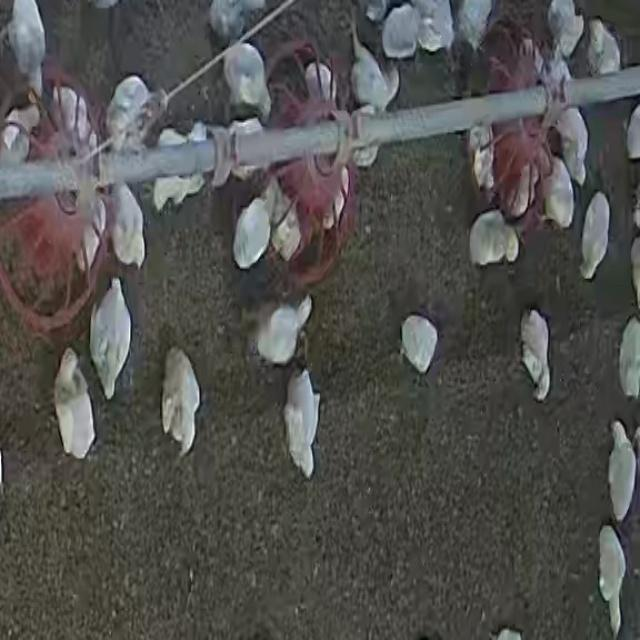chicken: (89, 280, 132, 398), (54, 349, 97, 460), (282, 365, 322, 481), (160, 348, 200, 457), (223, 42, 277, 121), (254, 295, 316, 363), (232, 195, 274, 276), (606, 421, 636, 524), (596, 524, 626, 626), (109, 184, 145, 268), (468, 208, 518, 266), (520, 310, 551, 399), (578, 193, 610, 279), (398, 314, 442, 374), (540, 156, 575, 230)
